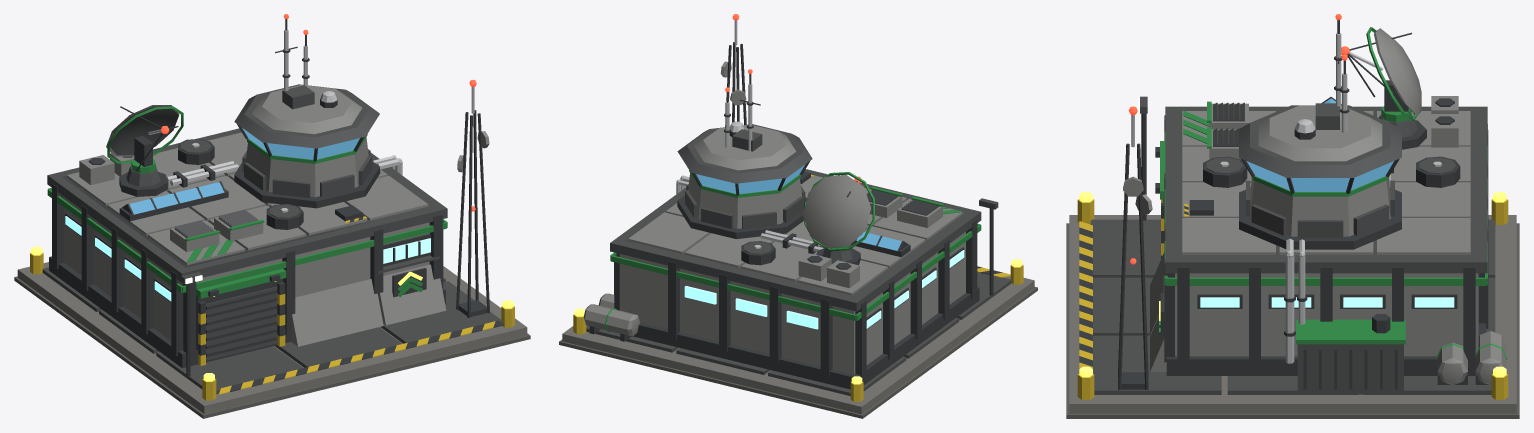
The picture shows the model from 3 angles, left to right: view 1: azimuth 30°, elevation 25°; view 2: azimuth 150°, elevation 25°; view 3: azimuth 270°, elevation 25°; orthographic projection. The views are drawn at different scales.
Parts seen in each view (by area): view 1: HQ_LOD1_Walls, HQ_LOD1_Foundation, HQ_LOD1_Details, HQ_LOD1_Frame, HQ_LOD1_spin; view 2: HQ_LOD1_Walls, HQ_LOD1_Frame, HQ_LOD1_Foundation, HQ_LOD1_Details, HQ_LOD1_spin; view 3: HQ_LOD1_Walls, HQ_LOD1_Foundation, HQ_LOD1_Details, HQ_LOD1_Frame, HQ_LOD1_spin.
Boxes of the visible parts, x1,y1,x2,y2 form: HQ_LOD1_Walls: (47, 84, 447, 360); HQ_LOD1_Foundation: (14, 246, 530, 418); HQ_LOD1_Details: (79, 14, 489, 376); HQ_LOD1_Frame: (49, 110, 490, 368); HQ_LOD1_spin: (106, 105, 183, 173); HQ_LOD1_Walls: (610, 124, 981, 374); HQ_LOD1_Frame: (614, 42, 979, 389); HQ_LOD1_Foundation: (559, 259, 1037, 418); HQ_LOD1_Details: (584, 14, 998, 341); HQ_LOD1_spin: (803, 172, 874, 251); HQ_LOD1_Walls: (1150, 105, 1487, 371); HQ_LOD1_Foundation: (1066, 192, 1519, 418); HQ_LOD1_Details: (1123, 14, 1506, 394); HQ_LOD1_Frame: (1118, 115, 1488, 390); HQ_LOD1_spin: (1341, 27, 1421, 122).
Bounding box in the file's own units: 2.98 × 2.38 × 2.98.
